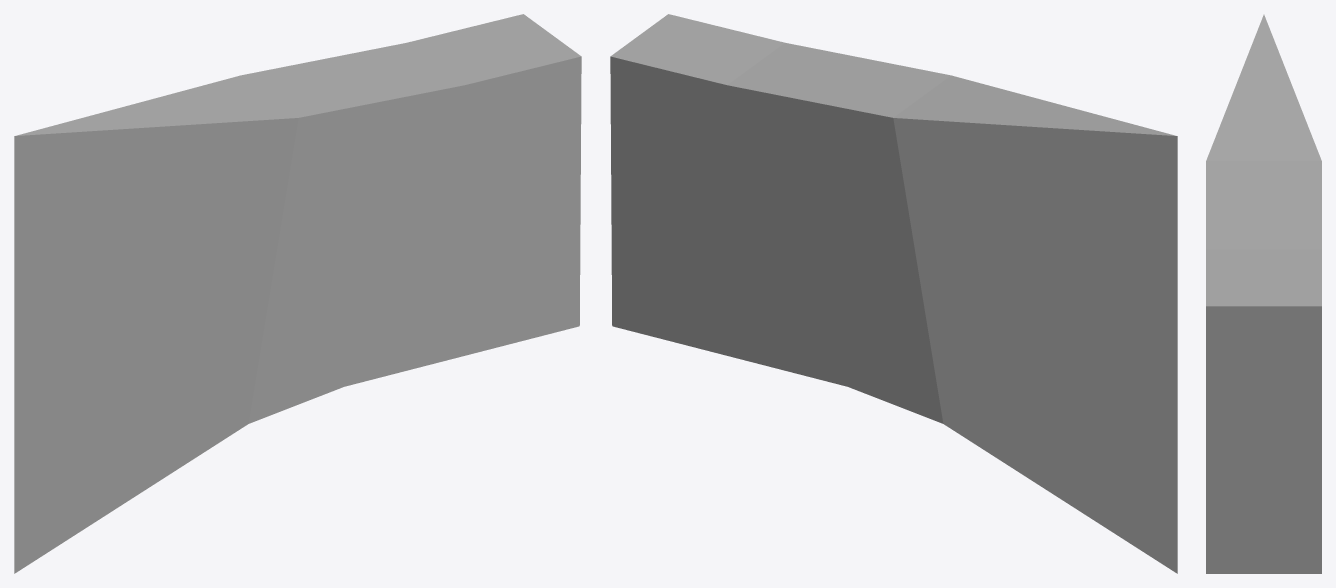
File: axe.fbx
The picture shows the model from 3 angles, left to right: view 1: azimuth 30°, elevation 25°; view 2: azimuth 150°, elevation 25°; view 3: azimuth 270°, elevation 25°; orthographic projection.
Parts seen in each view (by area): view 1: Cube; view 2: Cube; view 3: Cube.
Boxes of the visible parts, x1,y1,x2,y2 form: Cube: (14,14,581,573); Cube: (610,14,1177,573); Cube: (1206,14,1321,573).
Size of the model in its own units: 172 by 134 by 32.09.
